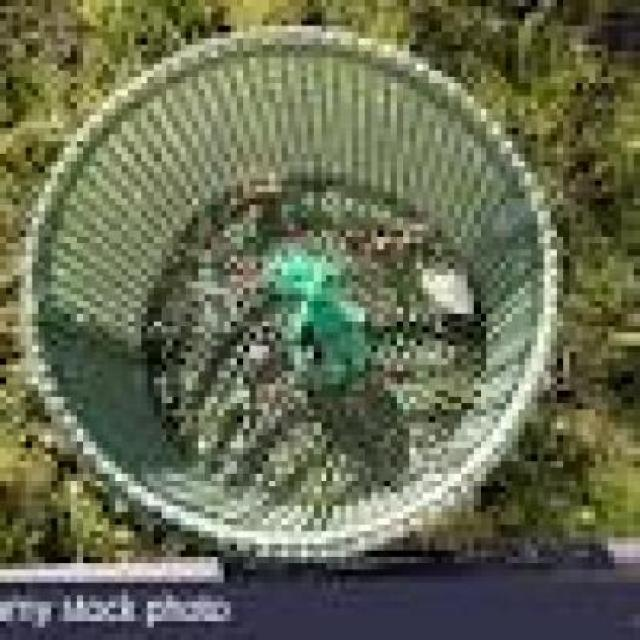garbage: (249, 211, 364, 384)
